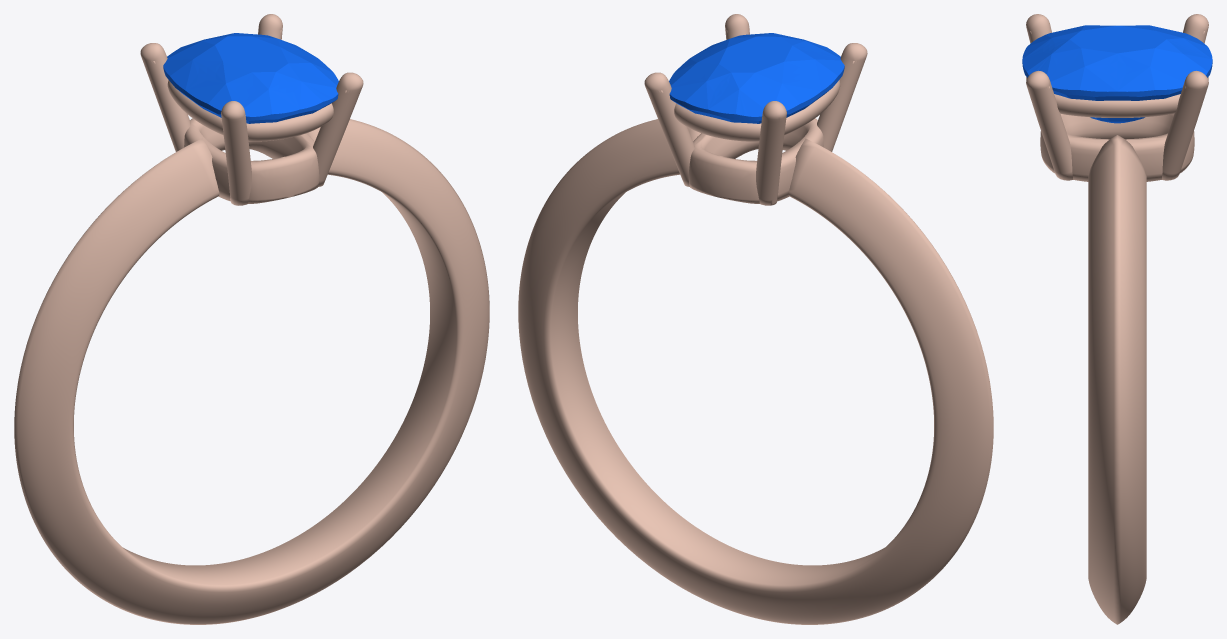
File: bluesapphire-cushion-rosegold-4prong-knifeedge-nosidestones.glb
3 views of the same model, side by side, from view 1: azimuth 30°, elevation 25°; view 2: azimuth 150°, elevation 25°; view 3: azimuth 270°, elevation 25° (orthographic).
Parts seen in each view (by area): view 1: metal, stone; view 2: metal, stone; view 3: metal, stone.
Part boxes in pixels (left/top/right/bottom): metal: left=14, top=14, right=489, bottom=624; stone: left=163, top=33, right=338, bottom=123; metal: left=518, top=14, right=993, bottom=624; stone: left=669, top=33, right=844, bottom=123; metal: left=1026, top=14, right=1208, bottom=624; stone: left=1022, top=25, right=1212, bottom=123.
Bounding box in the file's own units: 20.5 × 23.24 × 7.15.
